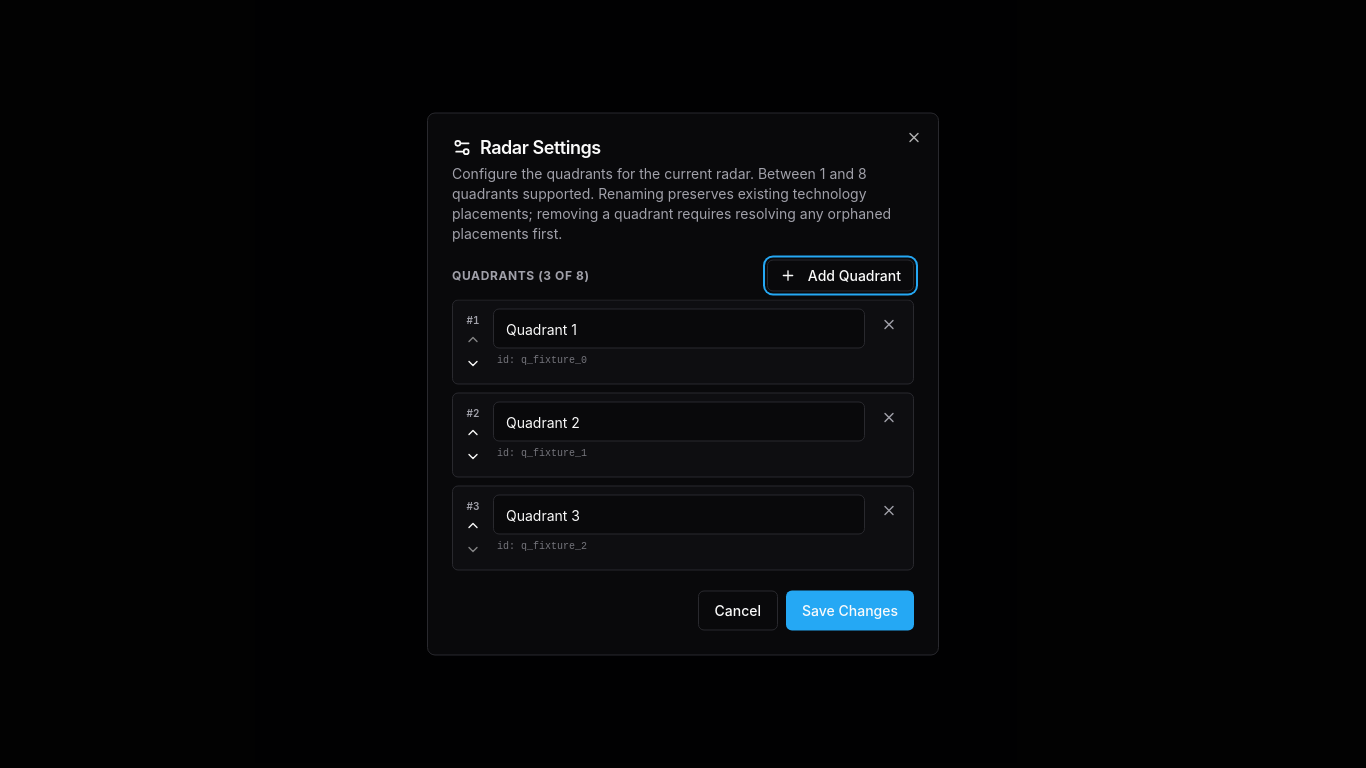
Test: SettingsDialog › orphan resolution modal › shows resolved technology names in the orphan preview while preserving the canonical id (UX-044)
Click the button "Save Changes". click: (850, 610)
box: [786,590,914,630]
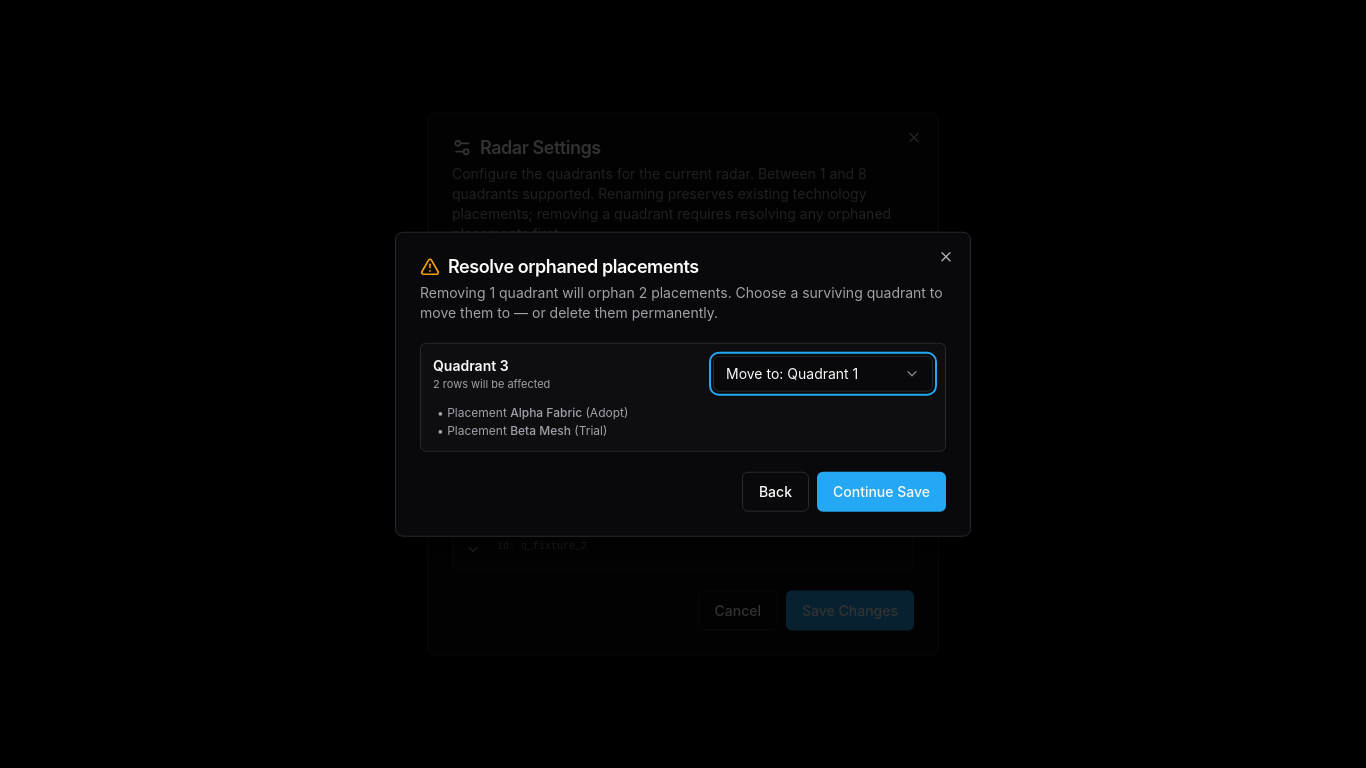
Expected: the heading "Resolve orphaned placements" is shown, [420,256,699,277]
Expected: the text "Alpha Fabric" is shown, [510,404,582,419]
Expected: the text "Beta Mesh" is shown, [510,422,571,437]
